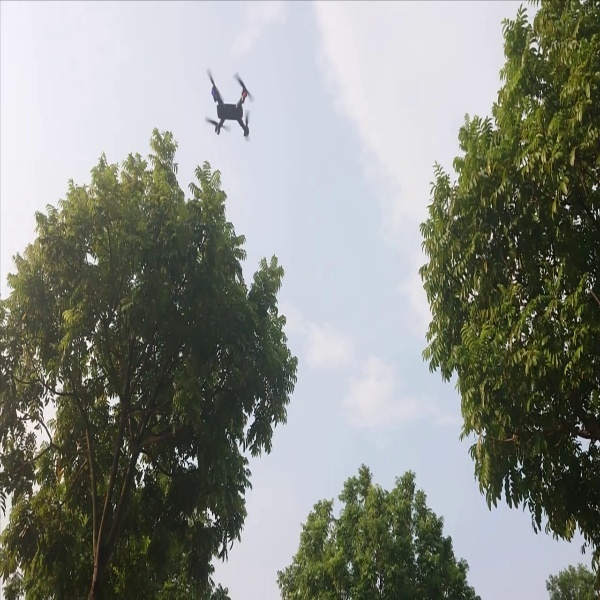drone: (195, 67, 268, 144)
